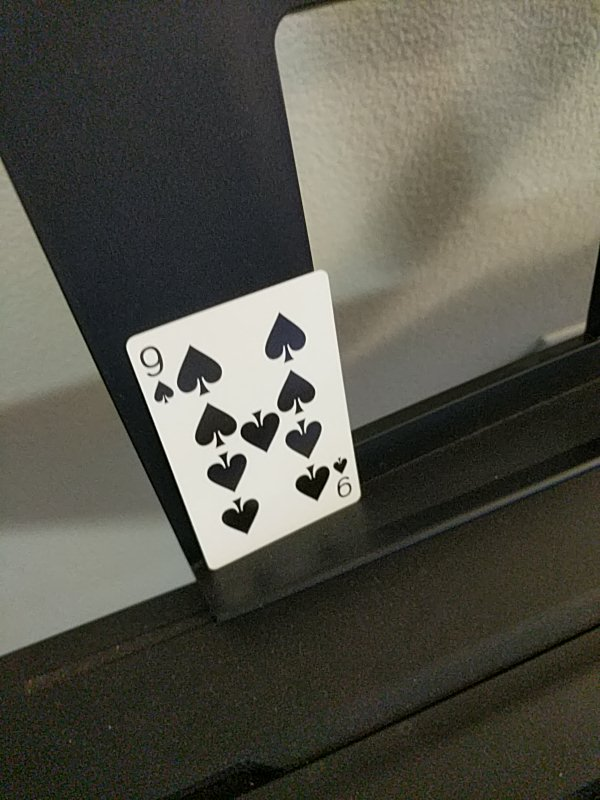Spades: (121, 267, 364, 573)
